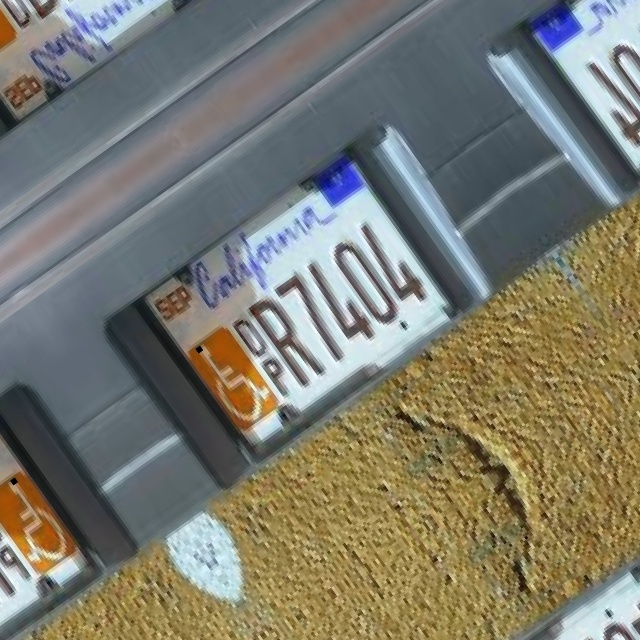ISA: (189, 329, 276, 426), (0, 474, 72, 572), (0, 0, 14, 58)
